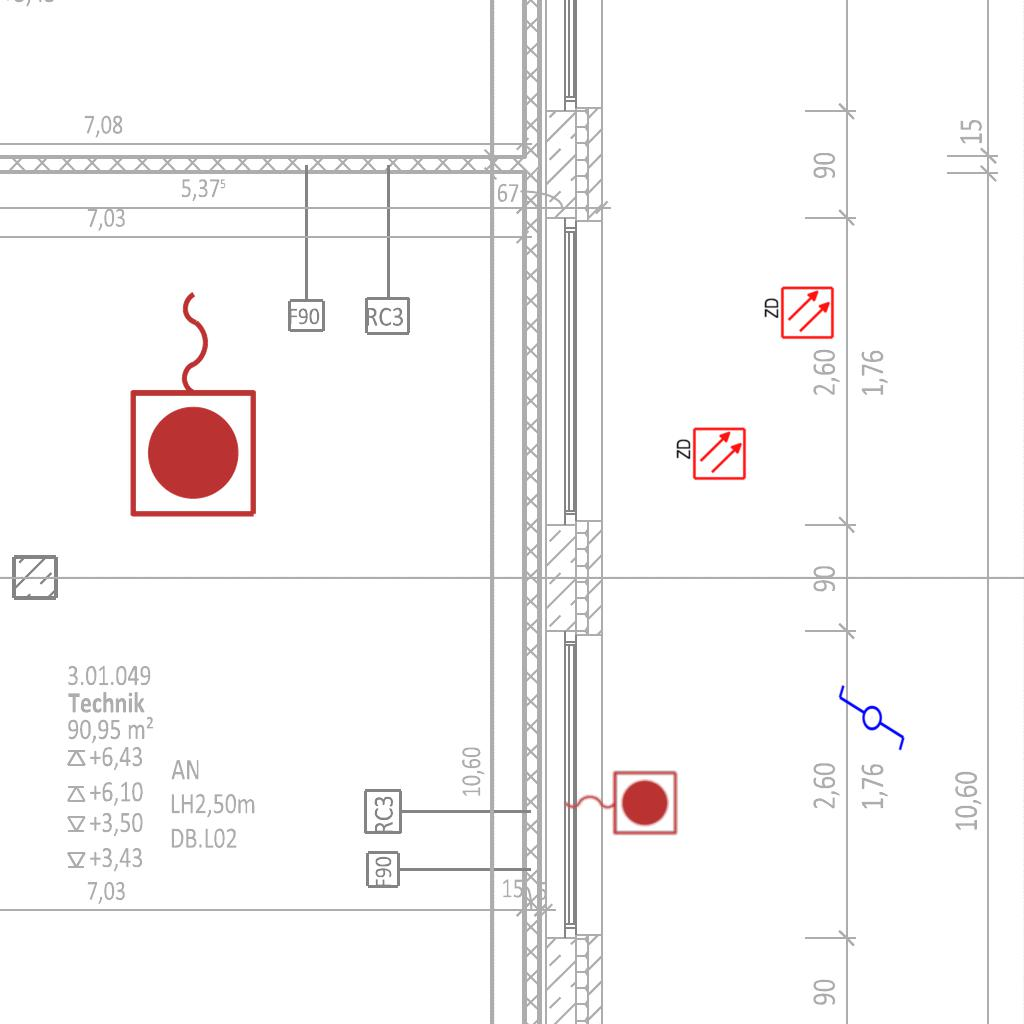Wechselschalter: (835, 683, 907, 761)
ZD_Melder_in_Zwischendecke_mit_Revisionsoeffnung_mind_40_x_40_cm: (673, 426, 747, 483), (761, 285, 835, 342)
Zugtaster: (123, 281, 267, 525), (559, 766, 681, 838)
